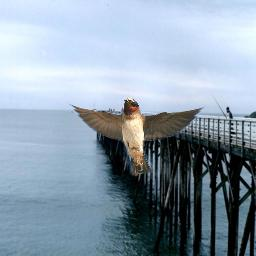Swallow: (64, 97, 206, 176)
